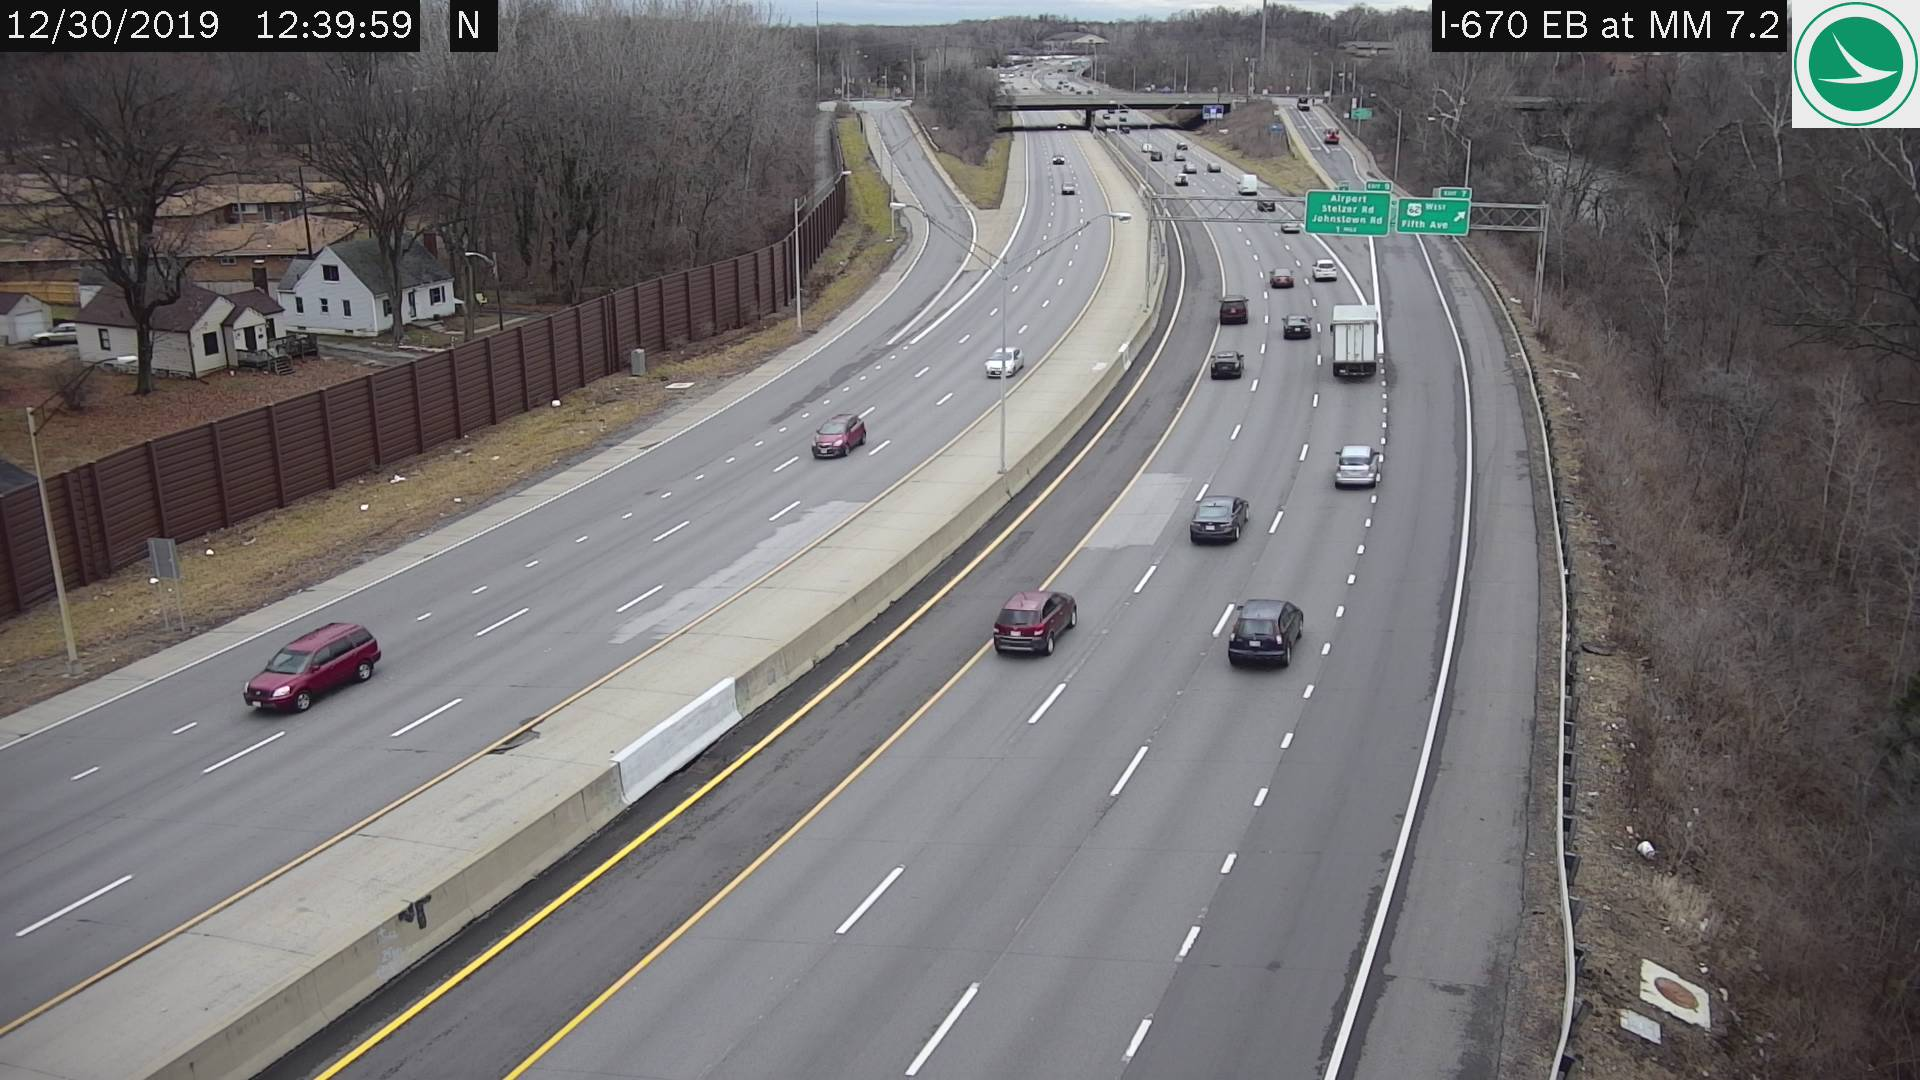car: (247, 620, 382, 712), (994, 592, 1077, 655), (1230, 600, 1302, 673), (1331, 305, 1378, 380), (1189, 496, 1246, 545), (810, 411, 862, 456), (1331, 444, 1374, 484), (1211, 349, 1246, 382), (986, 344, 1022, 376), (1218, 295, 1250, 324), (1282, 313, 1313, 336), (1270, 266, 1296, 287), (1312, 257, 1336, 280), (1236, 173, 1255, 193), (1255, 196, 1274, 211), (1174, 173, 1187, 186), (1062, 179, 1073, 193), (1205, 162, 1218, 173), (1183, 162, 1196, 173)
